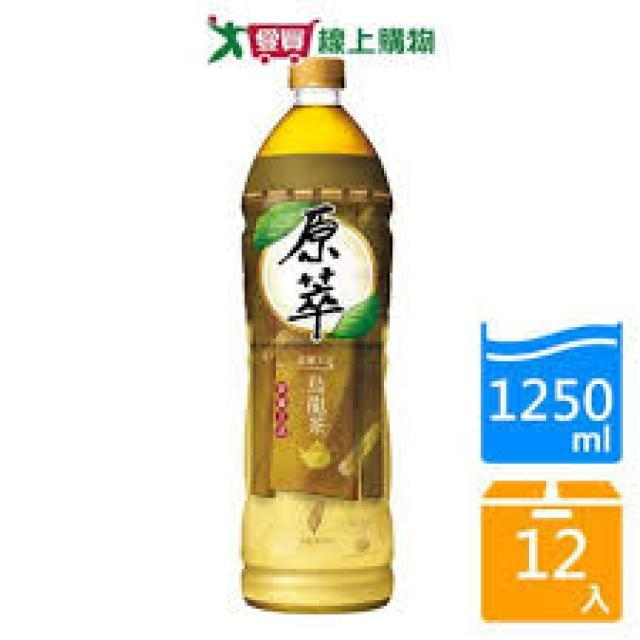RiYue_BlackTea: (234, 52, 411, 616)
